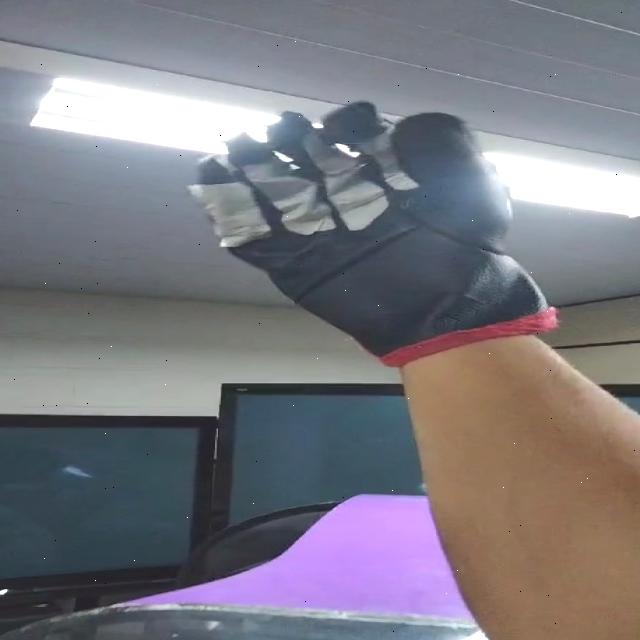Gloves: (195, 103, 565, 366)
